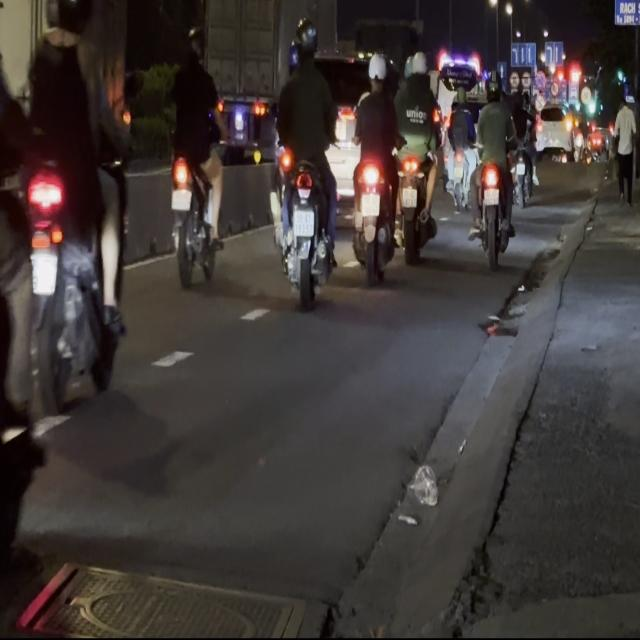helmet: (294, 19, 318, 65), (367, 51, 387, 90), (185, 23, 204, 62)
licenseplate: (19, 1, 130, 414), (0, 0, 53, 631), (268, 18, 340, 306), (164, 16, 225, 289), (348, 50, 401, 282)
nohelmet: (30, 252, 57, 293), (293, 210, 314, 237), (361, 194, 380, 217), (172, 190, 192, 210)
